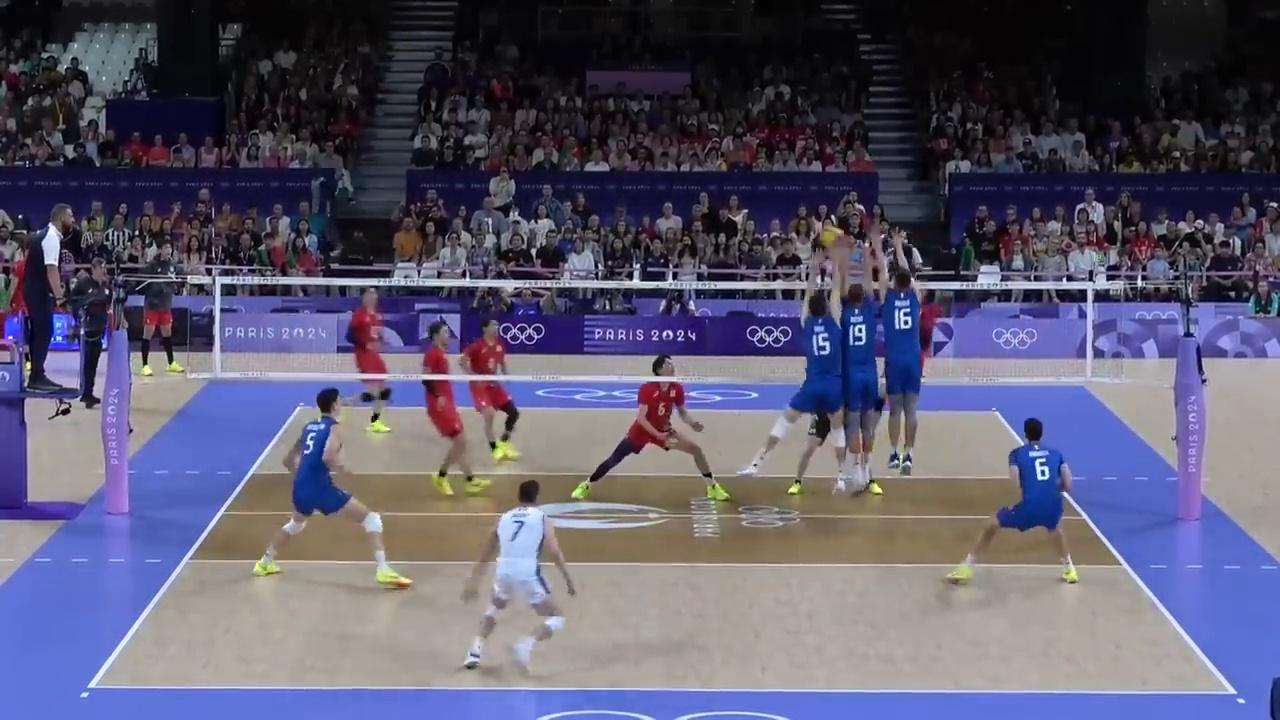ball: (818, 227, 841, 244)
